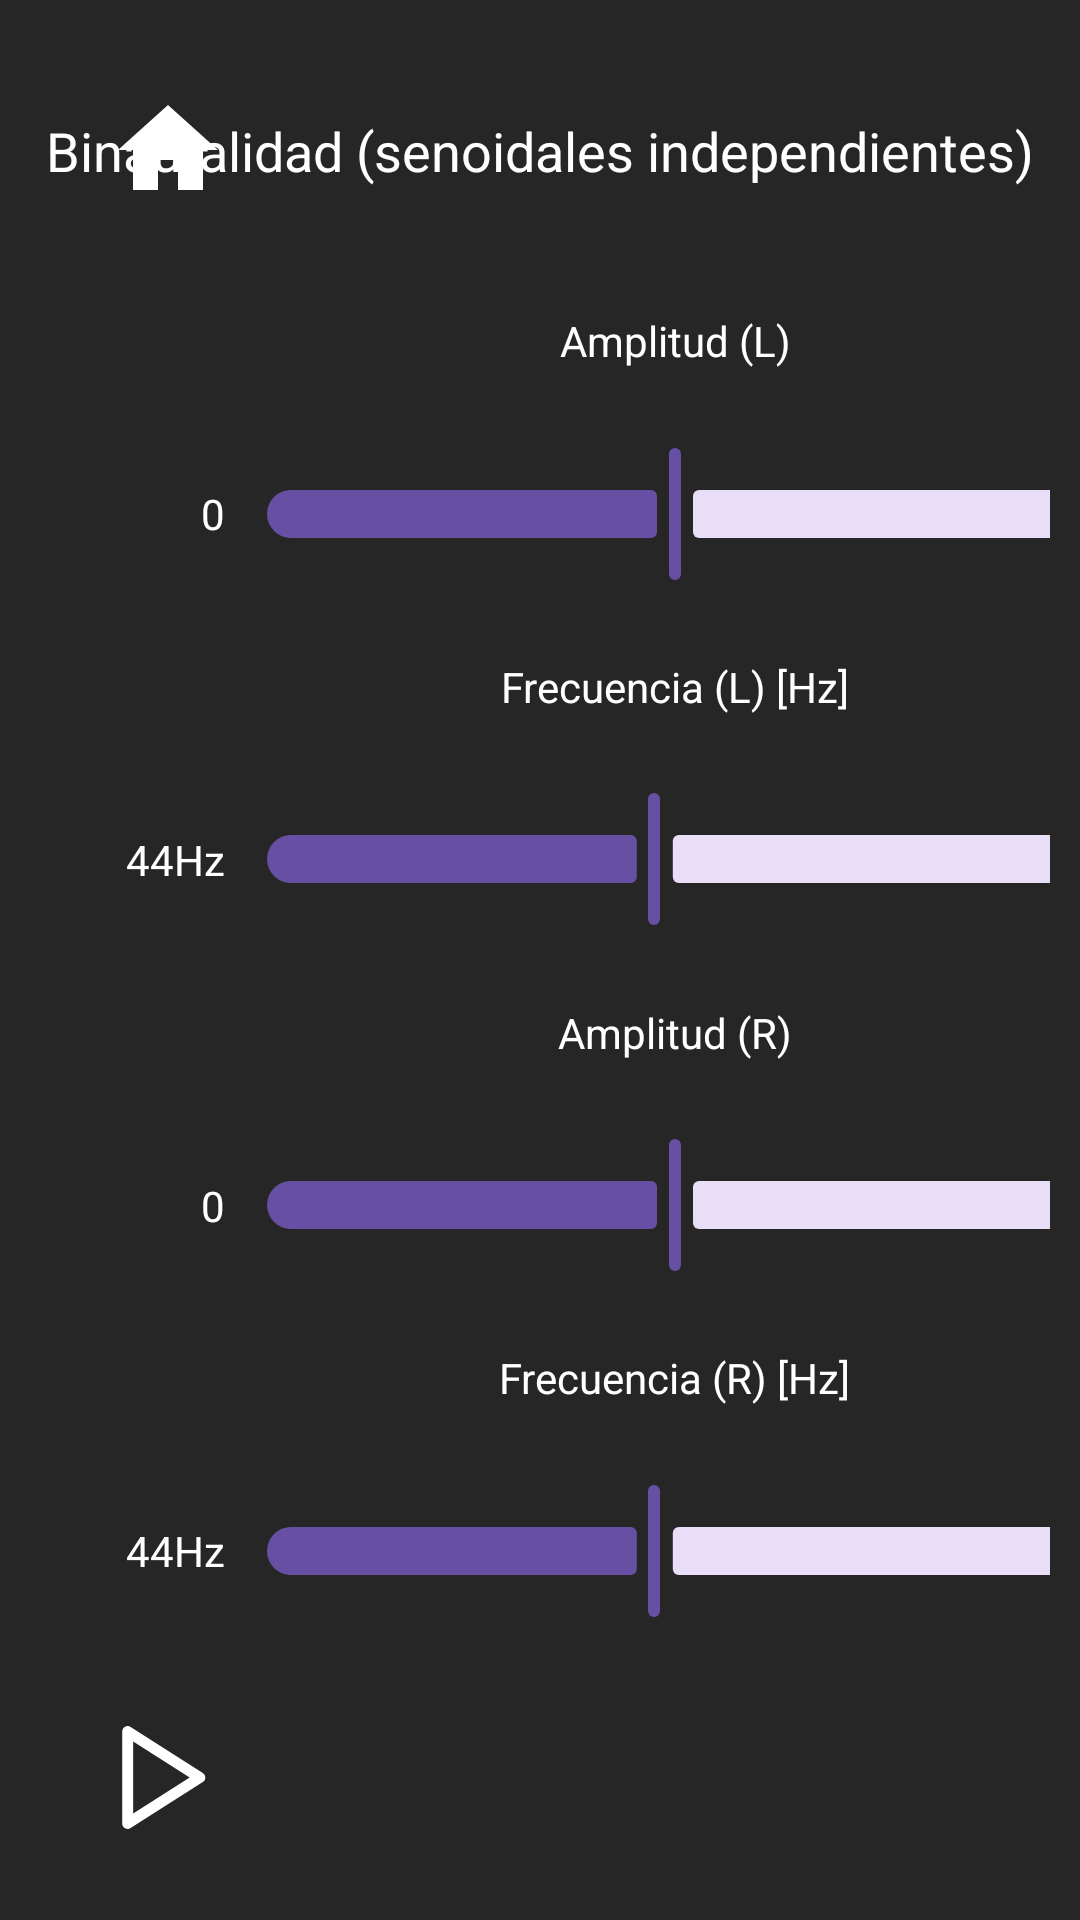

Icons on this 1080w x 1920h Android screen, each with its box as (x1, y1, x2, y2):
Reproducir o pausar: (122, 1726, 206, 1829)
